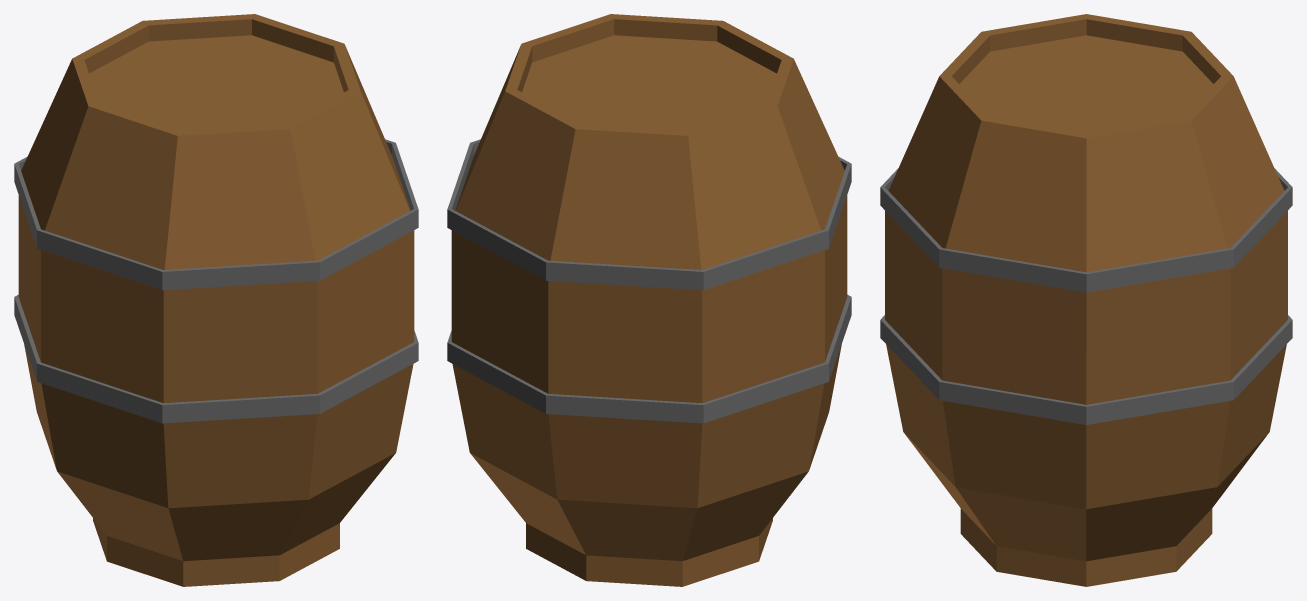
The model's file is Barrel01.fbx.
3 renders of one model, left to right at view 1: azimuth 30°, elevation 25°; view 2: azimuth 150°, elevation 25°; view 3: azimuth 270°, elevation 25°, orthographic.
Visible parts, largest first — view 1: Cube; view 2: Cube; view 3: Cube.
Part boxes in pixels (x1,y1,x2,y2): Cube: [14, 14, 418, 586]; Cube: [447, 14, 851, 586]; Cube: [880, 14, 1292, 586].
Bounding box in the file's own units: 97.78 × 120 × 97.78.
